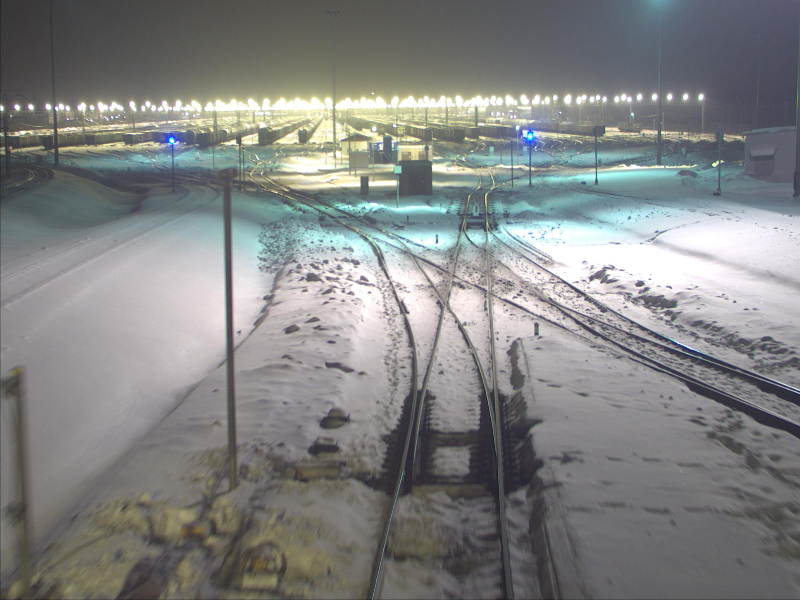left: (399, 388, 510, 483)
